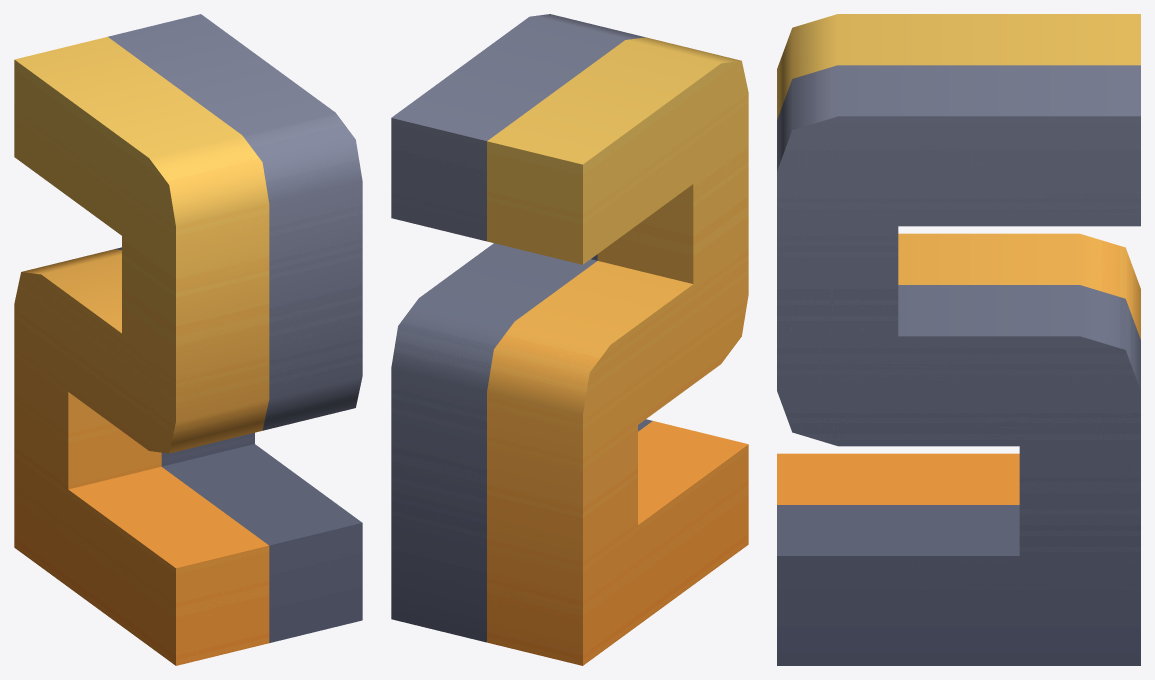
The model's file is number-double-2.glb.
The picture shows the model from 3 angles, left to right: view 1: azimuth 30°, elevation 25°; view 2: azimuth 150°, elevation 25°; view 3: azimuth 270°, elevation 25°; orthographic projection. The views are drawn at different scales.
Parts seen in each view (by area): view 1: number-double-2; view 2: number-double-2; view 3: number-double-2.
Part boxes in pixels (x1,y1,x2,y2): number-double-2: [14, 14, 362, 665]; number-double-2: [391, 14, 748, 665]; number-double-2: [777, 14, 1140, 665].
Size of the model in its own units: 0.2 by 0.5 by 0.3.
1 material, 1 textured.
